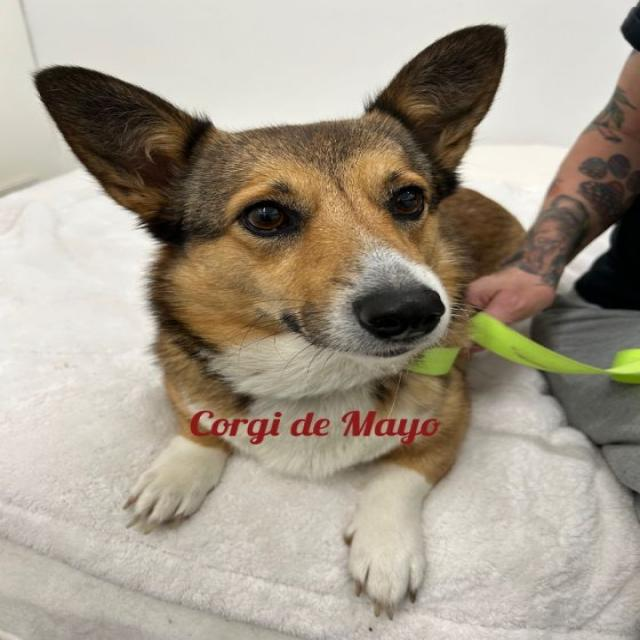corgi_dog: (21, 16, 519, 384)
